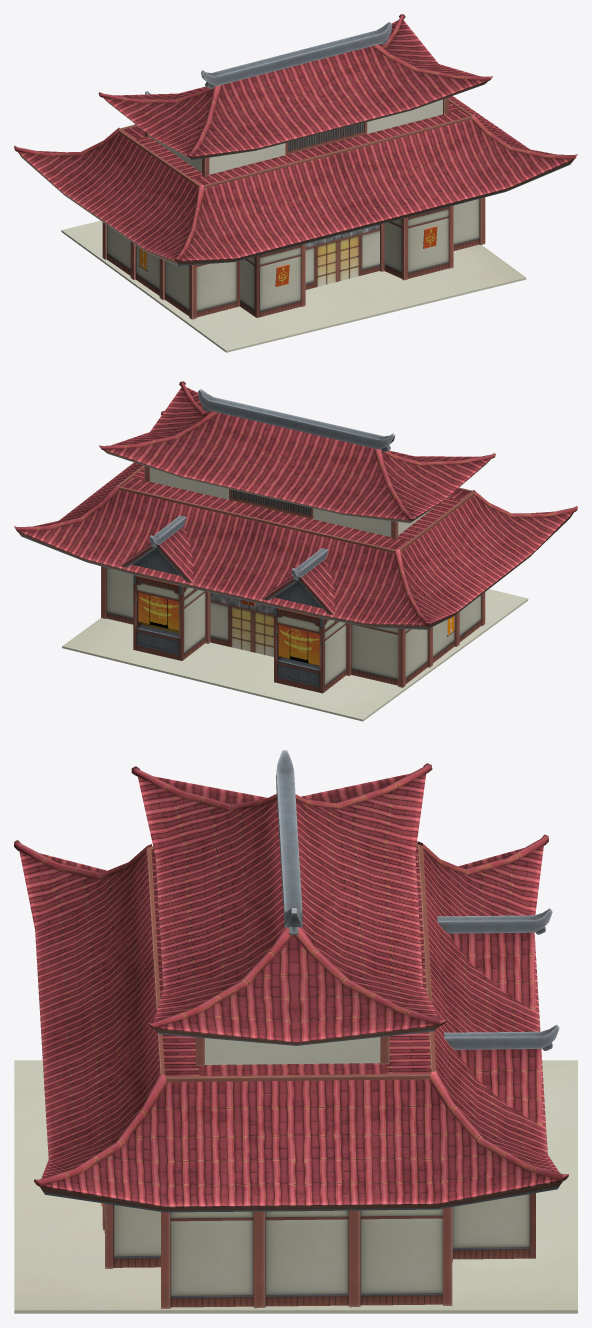
The model's file is NNJ0110007.fbx.
The picture shows the model from 3 angles, top to bottom: view 1: azimuth 30°, elevation 25°; view 2: azimuth 150°, elevation 25°; view 3: azimuth 270°, elevation 25°; orthographic projection. The views are drawn at different scales.
Parts seen in each view (by area): view 1: smNNJ0110007; view 2: smNNJ0110007; view 3: smNNJ0110007.
Part boxes in pixels (x1=…): smNNJ0110007: x1=14, y1=14, x2=577, y2=352; smNNJ0110007: x1=14, y1=381, x2=577, y2=721; smNNJ0110007: x1=14, y1=750, x2=577, y2=1313.
Size of the model in its own units: 2503 by 1211 by 1721.
Materials: 1 (1 with a texture image).
